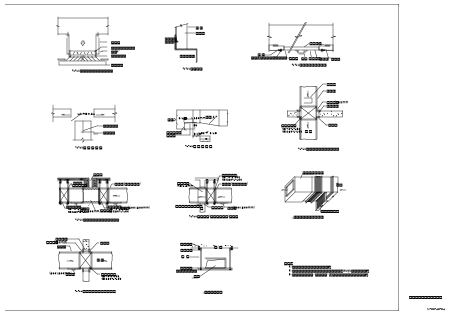corridor: (61, 111, 139, 132)
door: (351, 96, 360, 97)
room: (338, 198, 355, 210)
wall: (220, 34, 240, 47), (349, 220, 363, 234), (217, 128, 243, 135), (239, 124, 245, 139), (84, 63, 92, 74), (89, 186, 106, 191), (330, 191, 339, 200), (96, 38, 106, 45), (80, 62, 88, 70), (98, 104, 103, 114), (89, 130, 96, 137), (100, 130, 107, 137), (90, 128, 96, 134), (100, 128, 105, 133), (100, 129, 105, 134), (90, 128, 95, 132), (92, 133, 96, 137), (100, 133, 104, 137), (102, 128, 105, 131), (86, 135, 90, 137), (89, 73, 96, 74), (322, 200, 323, 206), (116, 135, 119, 137), (117, 135, 120, 137), (90, 128, 93, 130), (85, 135, 88, 137), (69, 135, 72, 137), (71, 135, 74, 137), (70, 135, 73, 137), (115, 135, 117, 137), (111, 135, 113, 137), (110, 135, 112, 137), (112, 135, 114, 137), (107, 135, 109, 137), (106, 135, 108, 137), (109, 135, 111, 137), (108, 135, 110, 137), (113, 135, 115, 137), (114, 135, 116, 137), (94, 135, 96, 137), (84, 135, 86, 137), (81, 135, 83, 137), (82, 135, 84, 137), (83, 135, 85, 137), (76, 135, 78, 137), (77, 135, 79, 137), (75, 135, 77, 137), (80, 135, 82, 137), (78, 135, 80, 137), (79, 135, 81, 137), (74, 135, 76, 137), (73, 135, 75, 137), (60, 135, 62, 137), (63, 135, 65, 137), (62, 135, 64, 137), (67, 135, 69, 137), (68, 135, 70, 137), (66, 135, 68, 137), (65, 135, 67, 137), (64, 135, 66, 137), (61, 135, 63, 137), (100, 135, 102, 137), (92, 68, 94, 69), (90, 128, 92, 129), (364, 202, 365, 203), (380, 202, 381, 203), (372, 202, 373, 203), (326, 203, 327, 204), (238, 67, 239, 68), (251, 67, 252, 68), (257, 67, 258, 68), (104, 128, 105, 129), (95, 66, 96, 67), (92, 72, 93, 73), (95, 136, 96, 137), (100, 136, 101, 137), (360, 202, 360, 203), (362, 200, 362, 201), (378, 200, 378, 201), (375, 200, 375, 201), (385, 200, 385, 206), (324, 201, 324, 202), (332, 202, 333, 202), (222, 102, 228, 102), (214, 66, 214, 66), (217, 67, 217, 67), (105, 128, 105, 128), (90, 64, 91, 64), (93, 64, 93, 65), (92, 72, 93, 72), (93, 72, 93, 72), (90, 128, 91, 128), (89, 31, 96, 31)
window: (367, 270, 370, 273), (195, 270, 196, 277), (106, 265, 107, 266), (366, 269, 366, 269), (306, 272, 306, 273)
